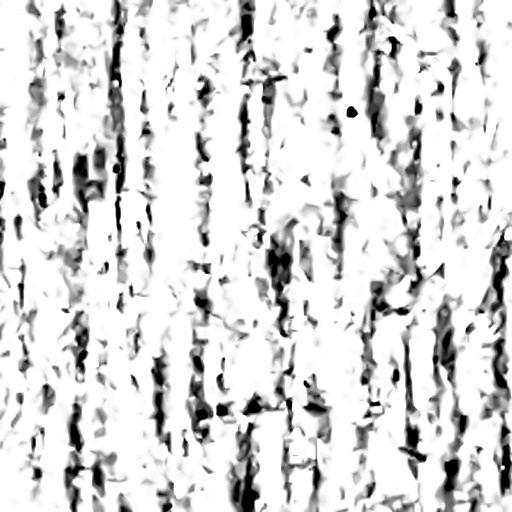egg: (347, 106, 357, 117)
